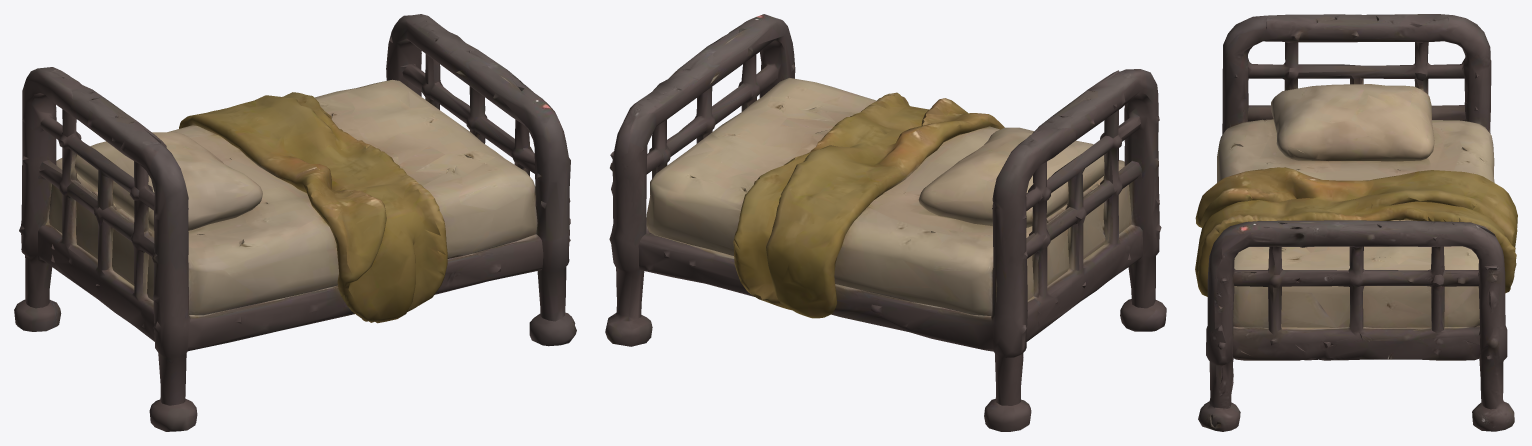
File: bed_idle.glb
The picture shows the model from 3 angles, left to right: view 1: azimuth 30°, elevation 25°; view 2: azimuth 150°, elevation 25°; view 3: azimuth 270°, elevation 25°; orthographic projection. The views are drawn at different scales.
Visible parts, largest first — view 1: tripo_node_e7d15d8d-8870-4fd7-a5b3-315b93513c2e; view 2: tripo_node_e7d15d8d-8870-4fd7-a5b3-315b93513c2e; view 3: tripo_node_e7d15d8d-8870-4fd7-a5b3-315b93513c2e.
Part boxes in pixels (bbox=[...]): tripo_node_e7d15d8d-8870-4fd7-a5b3-315b93513c2e: bbox=[14, 14, 576, 431]; tripo_node_e7d15d8d-8870-4fd7-a5b3-315b93513c2e: bbox=[605, 14, 1166, 431]; tripo_node_e7d15d8d-8870-4fd7-a5b3-315b93513c2e: bbox=[1195, 14, 1517, 431].
Bounding box in the file's own units: 1.3 × 0.7978 × 0.9677.
Materials: 1 (1 with a texture image).
